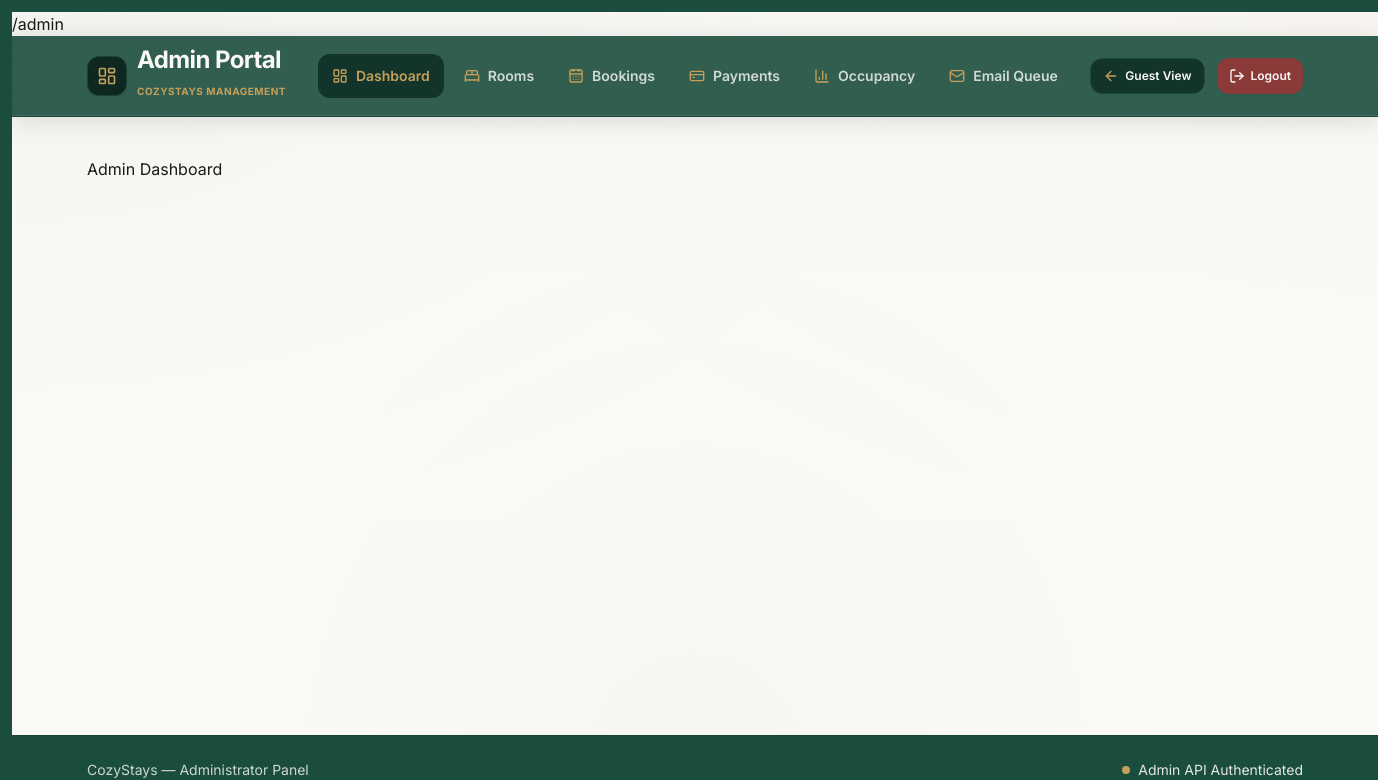
Test case: Task 2: Logout and Session Management › logout from admin dashboard navigates directly to /login
Expected: the text "Admin Dashboard" is shown, [87,159,222,179]
Note: Click admin layout logout button
Click the button "Logout": (1260, 76) [1216,58,1303,94]
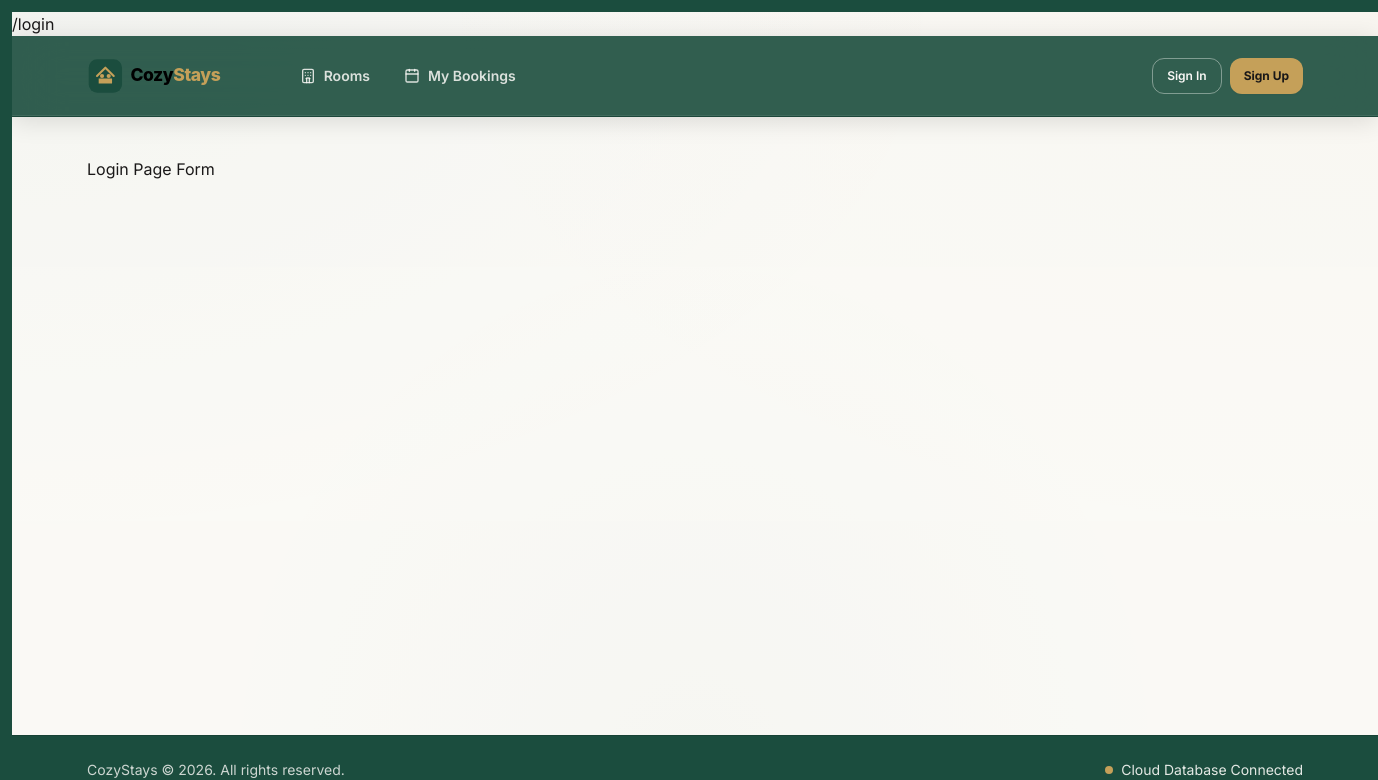
Result: the text with test id "location" reads "/login" at [12,14,54,34]
